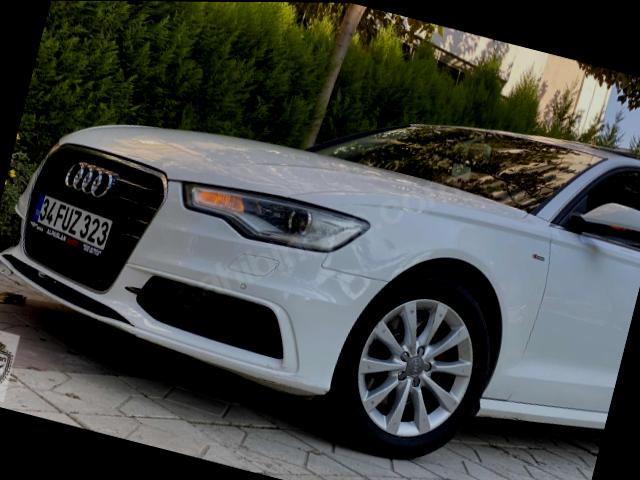plaka: (30, 191, 117, 257)
